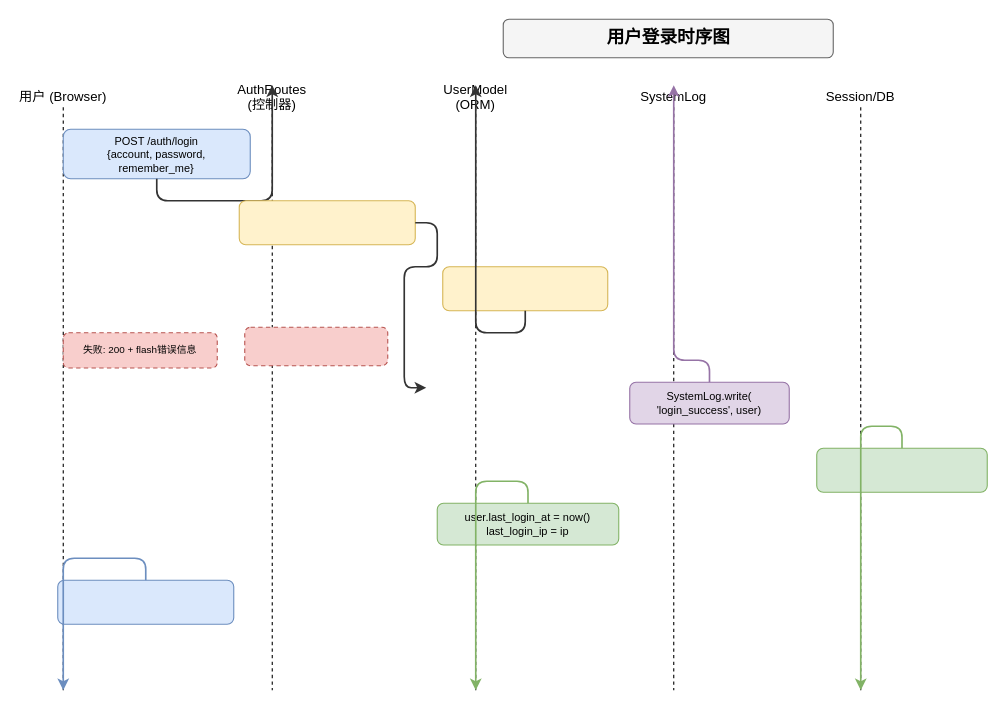
The diagram is 1007 pixels wide and 719 high, and some of its shapes have lost their labels. Here are the shapes that lost their labels. From the top down, the centre of each, then its label:
At (326,222): "User.query.filter( username/email==account)".
At (525,288): "user.check_password( password): bool".
At (316,346): "status == ACTIVE? is_banned?".
At (901,469): "session['user_id']=id session.permanent=True".
At (145,601): "302 Redirect → 首页 (flash: 登录成功)".
